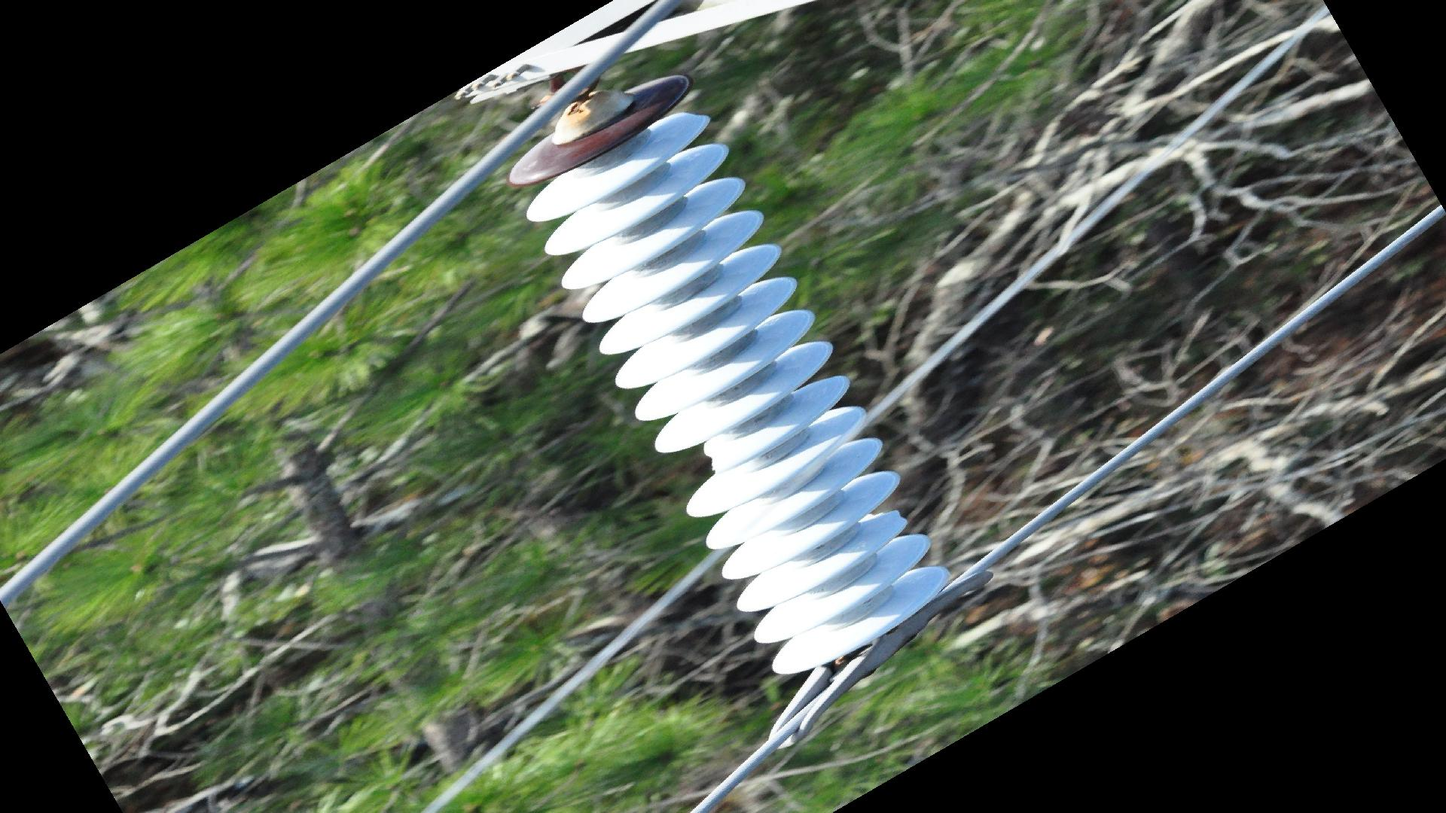insulator: (503, 71, 958, 680)
insulator_breakage: (697, 438, 724, 480), (866, 507, 914, 529)
